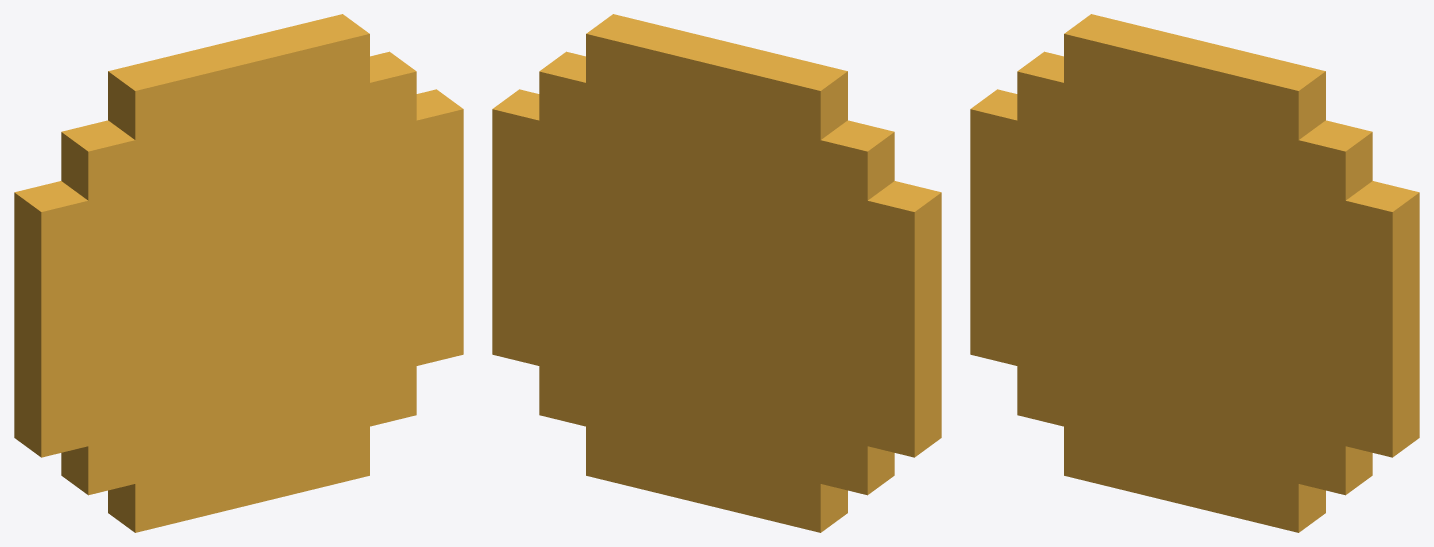
Rendered from Shield-Large-Orange.vox.obj.
3 renders of one model, left to right at view 1: azimuth 30°, elevation 25°; view 2: azimuth 150°, elevation 25°; view 3: azimuth 330°, elevation 25°, orthographic.
Bounding box in the file's own units: 0.9 × 0.9 × 0.1.
Materials: 1 (1 with a texture image).
